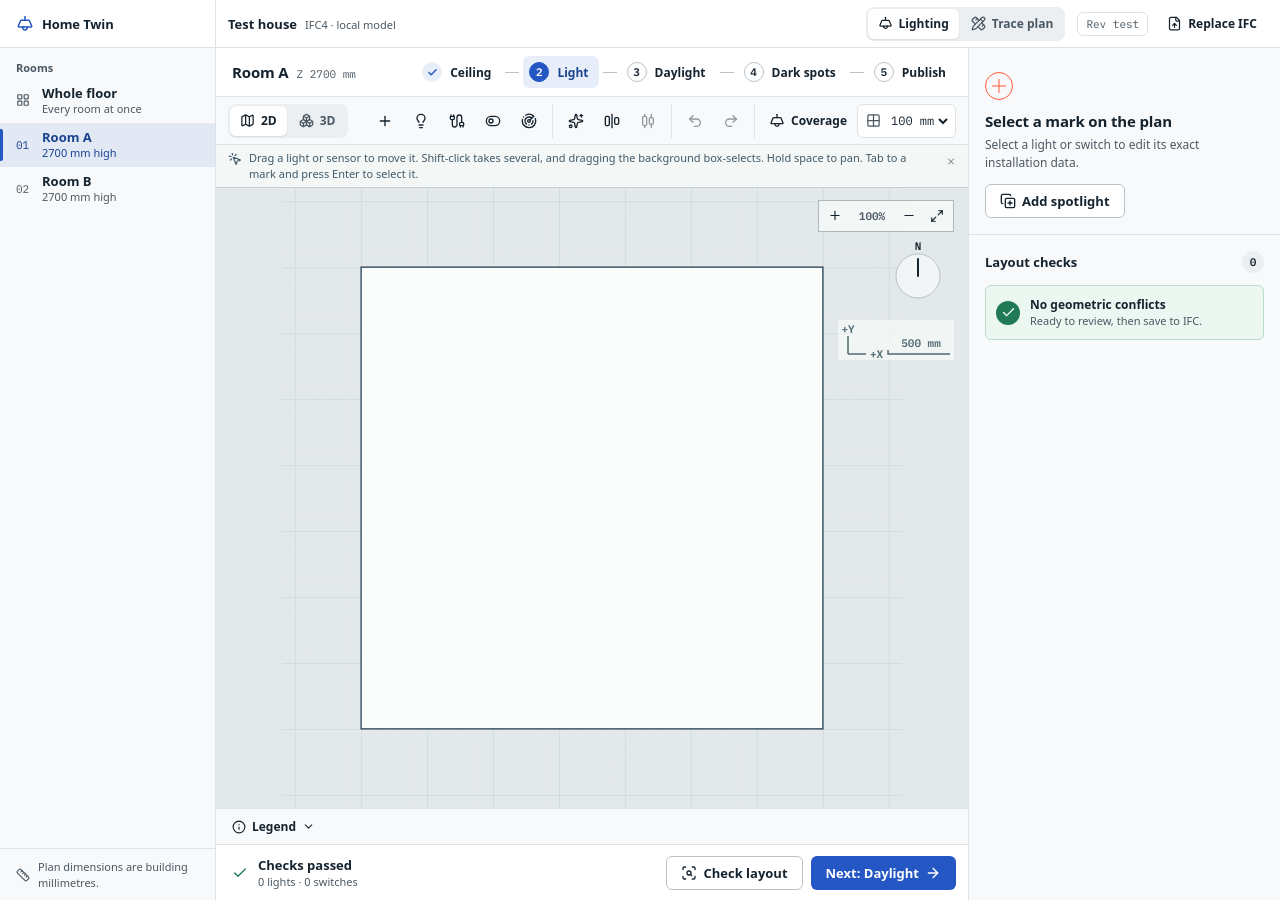
Test: App view switching › hides the room editing tools in the whole-floor view
The width and height of the screenshot is (1280, 900).
Expected: the picture named "Interactive top-down ceiling plan" is shown, [216,188,968,808]
Expected: the heading "Layout checks" is shown, [985,253,1077,271]
Click the button "Whole floor Every room at once" at coordinates (108, 101), box [0,79,215,123]
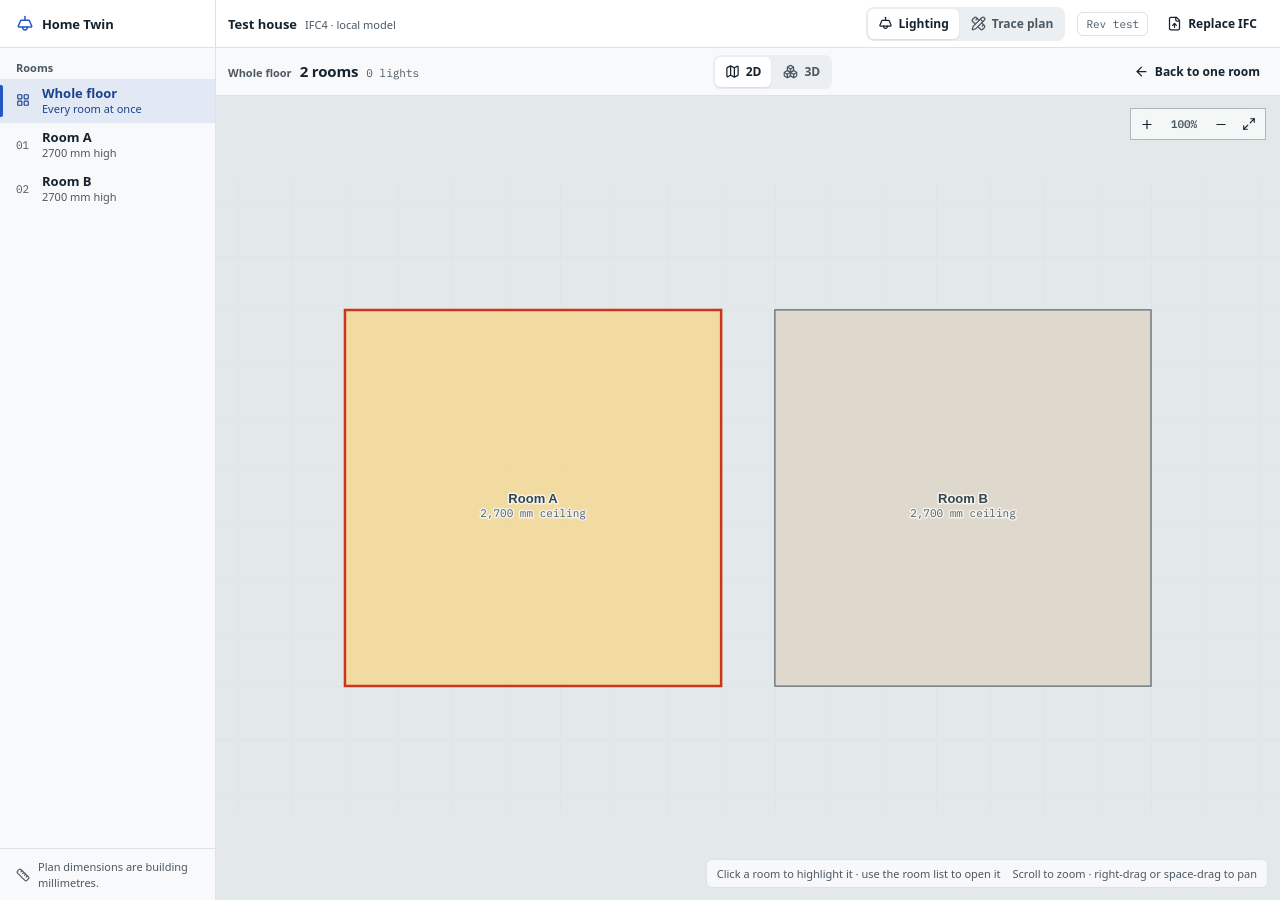
Expected: the picture named "Whole floor plan" is shown
Expected: the button "Add spotlight" is gone
Expected: the heading "Select a mark on the plan" is gone
